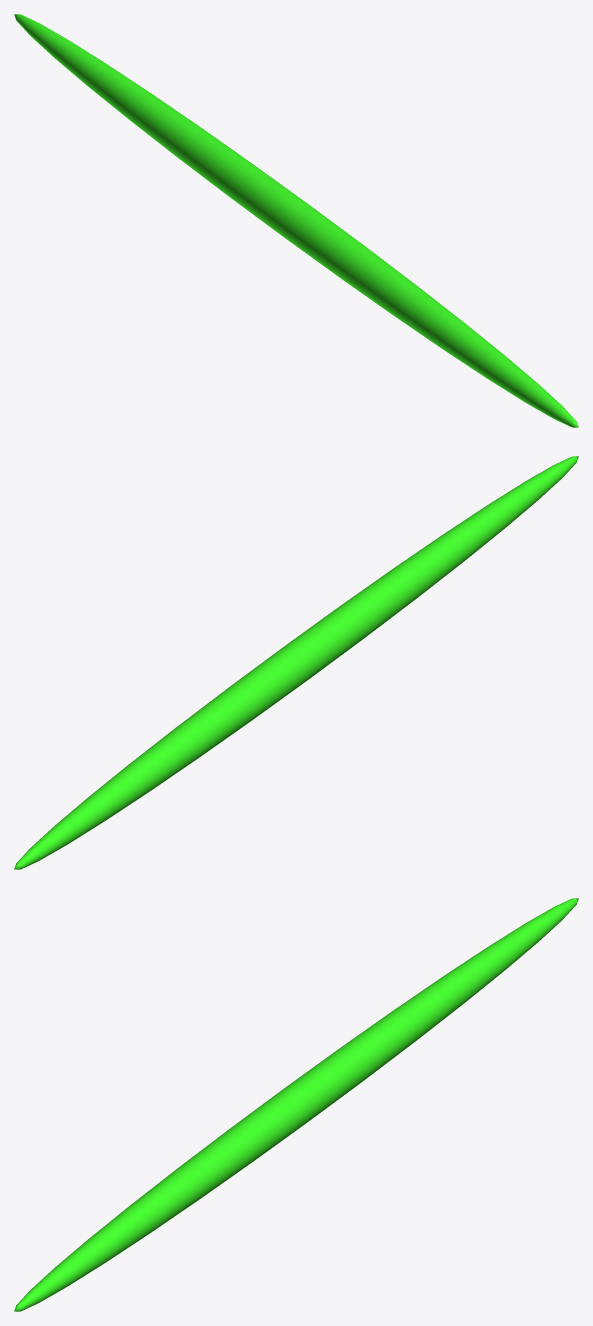
Rendered from Arrow.fbx.
The picture shows the model from 3 angles, top to bottom: view 1: azimuth 30°, elevation 25°; view 2: azimuth 150°, elevation 25°; view 3: azimuth 330°, elevation 25°; orthographic projection.
Visible parts, largest first — view 1: arrow; view 2: arrow; view 3: arrow.
Boxes of the visible parts, box(x1,y1,x2,y2) form: arrow: box(14, 14, 578, 427); arrow: box(14, 456, 578, 869); arrow: box(14, 898, 578, 1311).
Bounding box in the file's own units: 3.77 × 3.77 × 103.
Materials: 1 (1 with a texture image).
